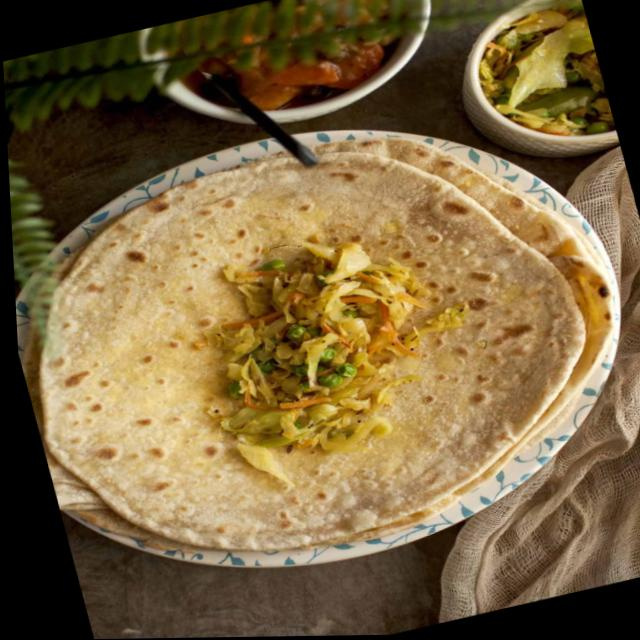CHAPATHI: (29, 135, 610, 549)
